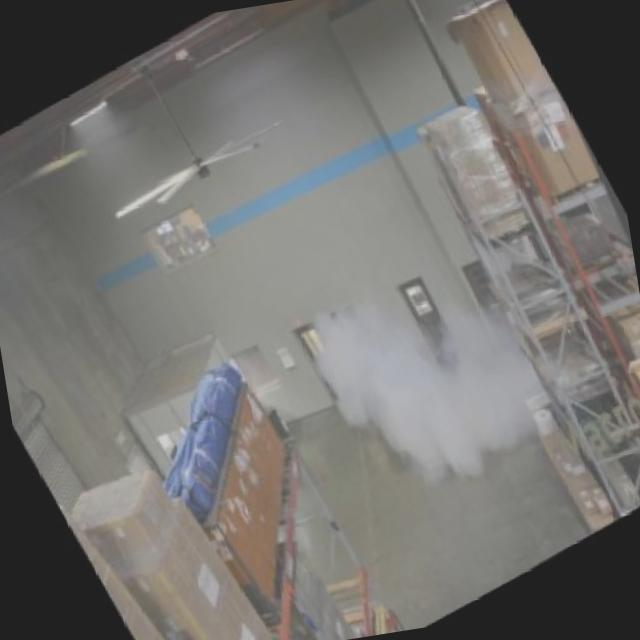smoke: (290, 243, 545, 512)
